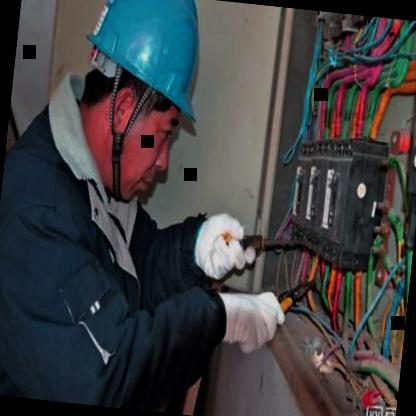helmet: (69, 0, 213, 205)
